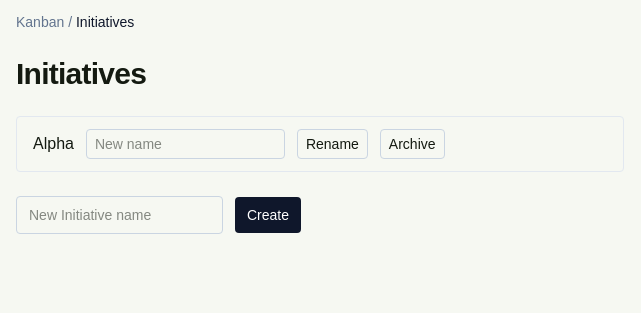
InitiativesView › shows the store error when a command is refused
Click the button with test id "initiative-archive-1" at (412, 144), box [380,129,444,159]
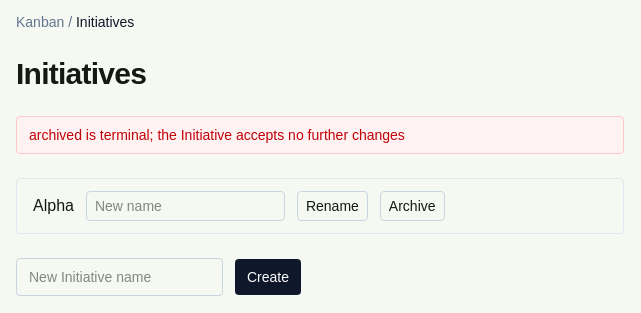
expect the message with test id "initiative-error" shows "terminal": met, box [29,127,405,143]
